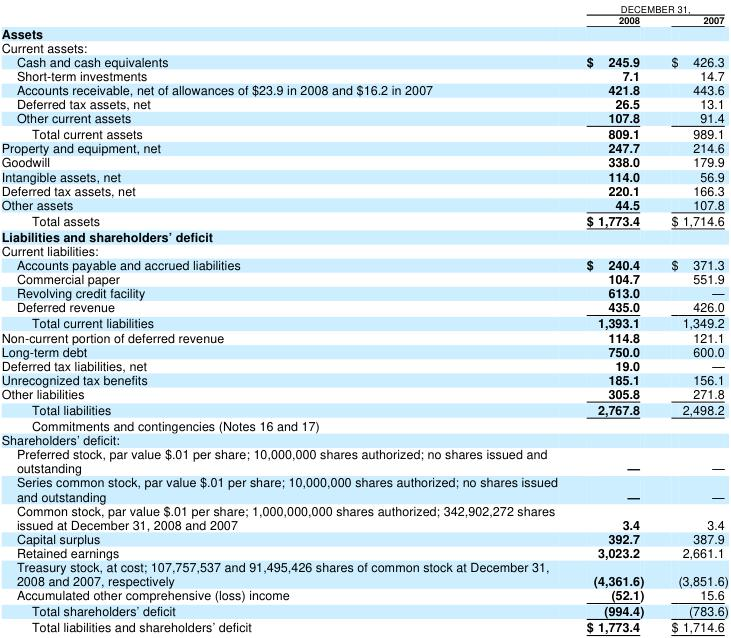table: (0, 1, 727, 635)
table column: (0, 1, 571, 635), (571, 1, 656, 635), (656, 1, 727, 635)
table column header: (0, 1, 727, 25)
table projected row header: (0, 227, 727, 243), (0, 417, 727, 432), (0, 25, 727, 39), (0, 39, 727, 53), (0, 243, 727, 257), (0, 432, 727, 446)
table row: (0, 446, 727, 474), (0, 474, 727, 502), (0, 502, 727, 530), (0, 559, 727, 587), (0, 618, 727, 635), (0, 211, 727, 227), (0, 227, 727, 243), (0, 401, 727, 417), (0, 602, 727, 618), (0, 53, 727, 68), (0, 110, 727, 125), (0, 125, 727, 140), (0, 196, 727, 211), (0, 299, 727, 314), (0, 314, 727, 329), (0, 371, 727, 386), (0, 386, 727, 401), (0, 417, 727, 432), (0, 530, 727, 545), (0, 587, 727, 602), (0, 25, 727, 39), (0, 39, 727, 53), (0, 68, 727, 82), (0, 82, 727, 96), (0, 96, 727, 110), (0, 140, 727, 154), (0, 154, 727, 168), (0, 168, 727, 182), (0, 182, 727, 196), (0, 243, 727, 257), (0, 257, 727, 271), (0, 271, 727, 285), (0, 285, 727, 299), (0, 329, 727, 343), (0, 343, 727, 357), (0, 357, 727, 371), (0, 432, 727, 446), (0, 545, 727, 559), (0, 1, 727, 13), (0, 13, 727, 25)
table spanning cell: (571, 1, 727, 13)
